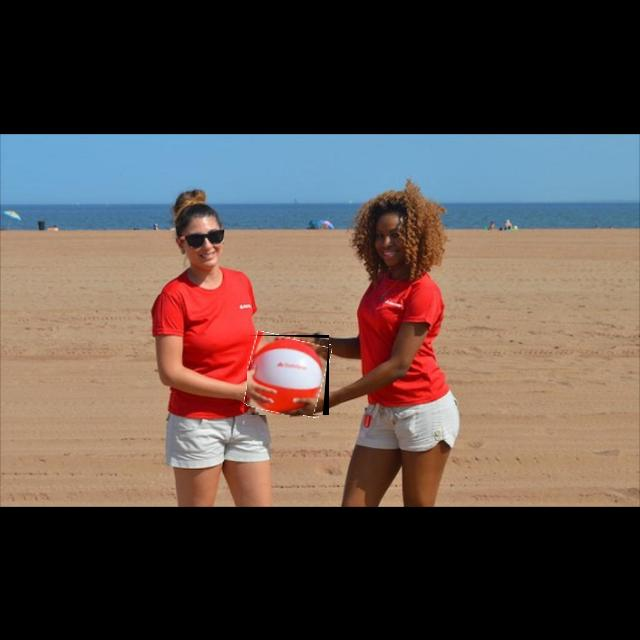Football: (247, 335, 329, 415)
